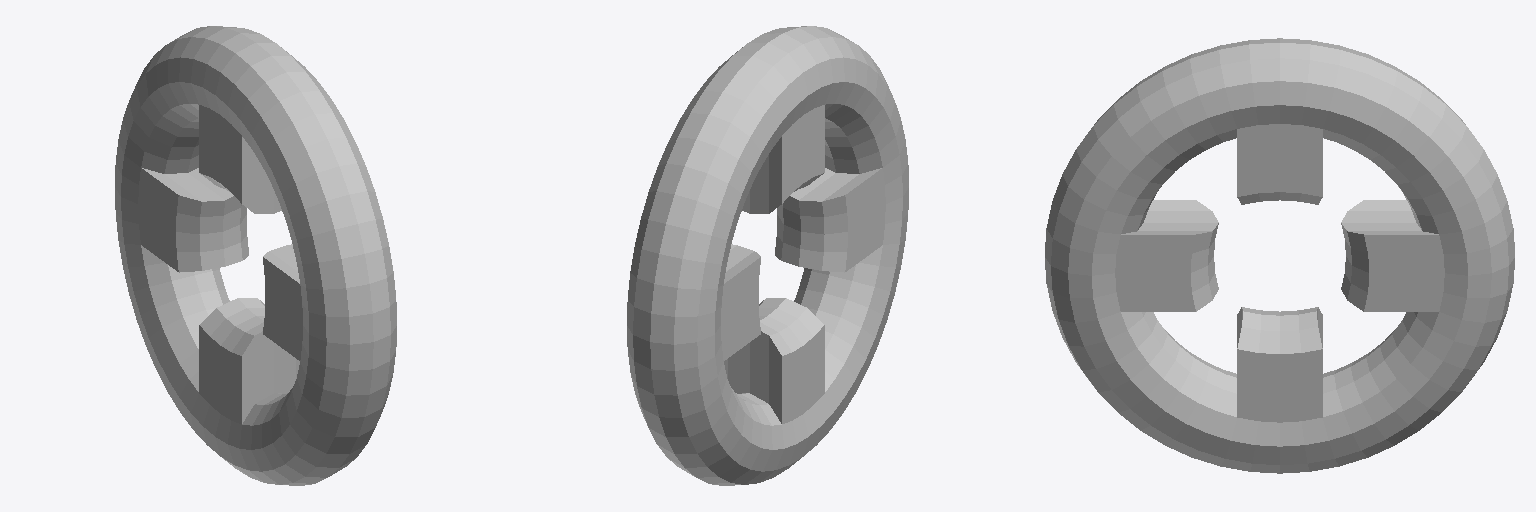
File: Damage.obj
3 views of the same model, side by side, from view 1: azimuth 30°, elevation 25°; view 2: azimuth 150°, elevation 25°; view 3: azimuth 270°, elevation 25° (orthographic).
Bounding box in the file's own units: 0.5 × 2.5 × 2.5.